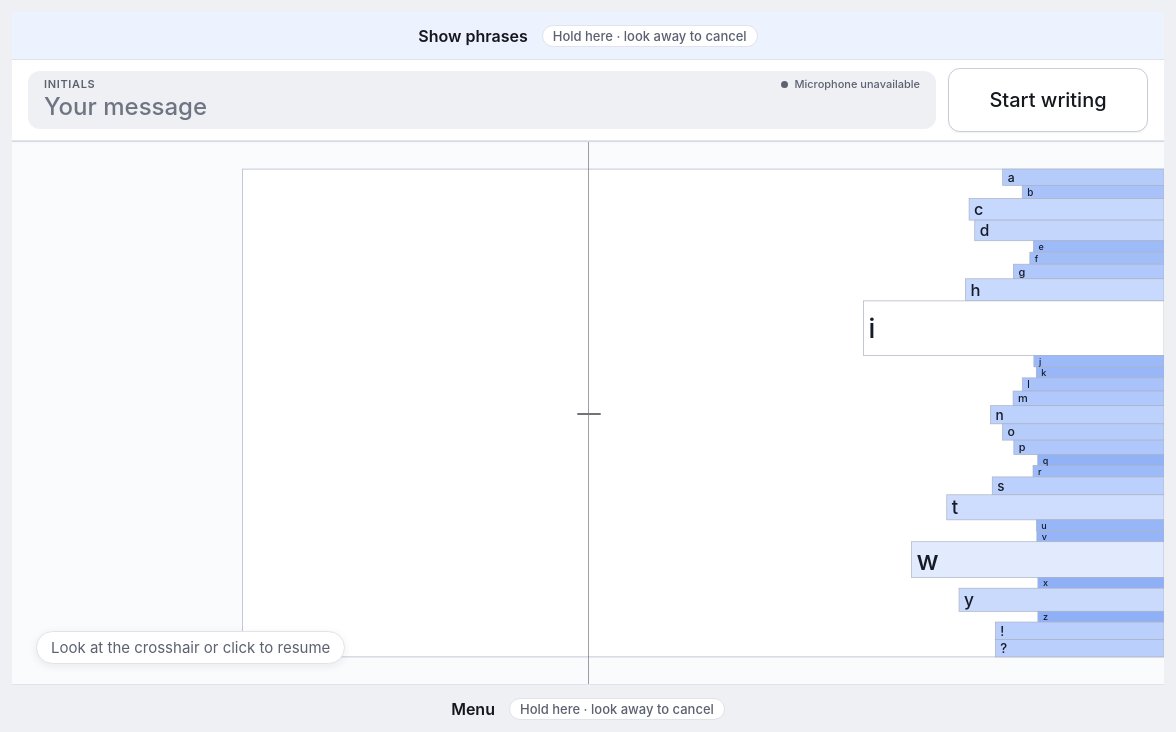
Test: top-edge review cue › keeps writing on hover, cancels a short glance, latches review until a fresh dwell, and resumes on return
Click the button "Start writing" at (1048, 100), box x1=948 y1=68 x2=1148 y2=132
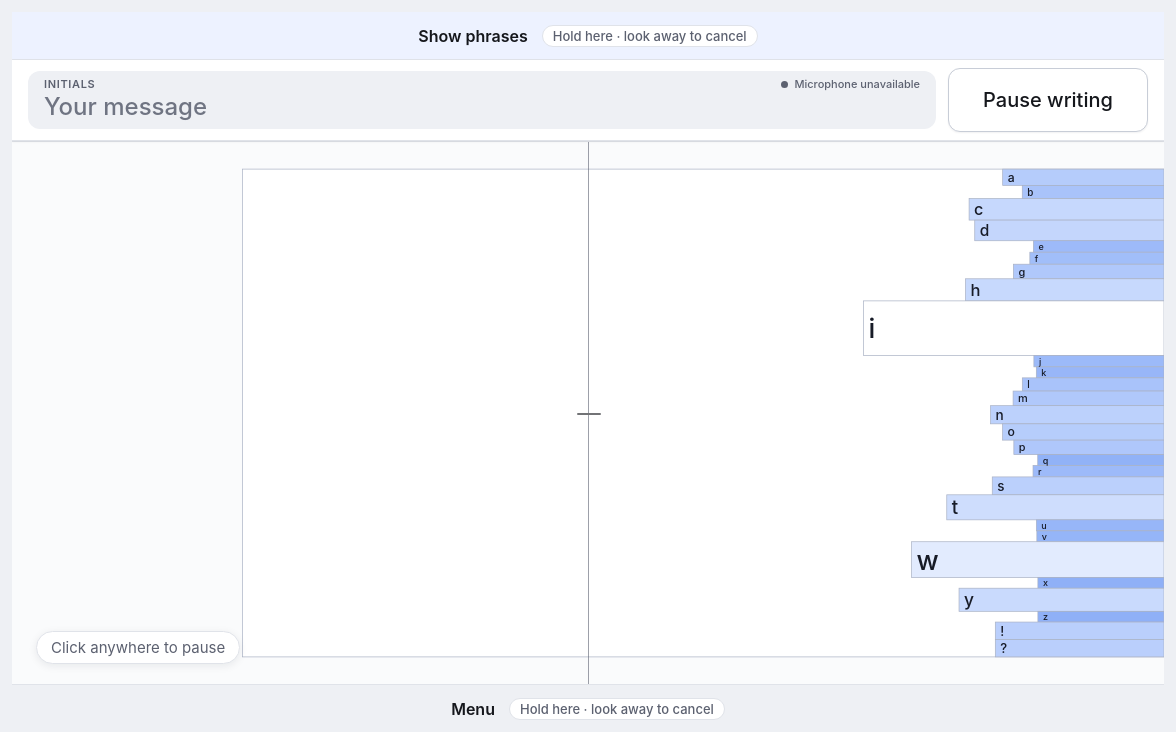
Hover over the button "Show phrases" at (588, 36), box x1=12 y1=12 x2=1164 y2=60
Wait 600 ms
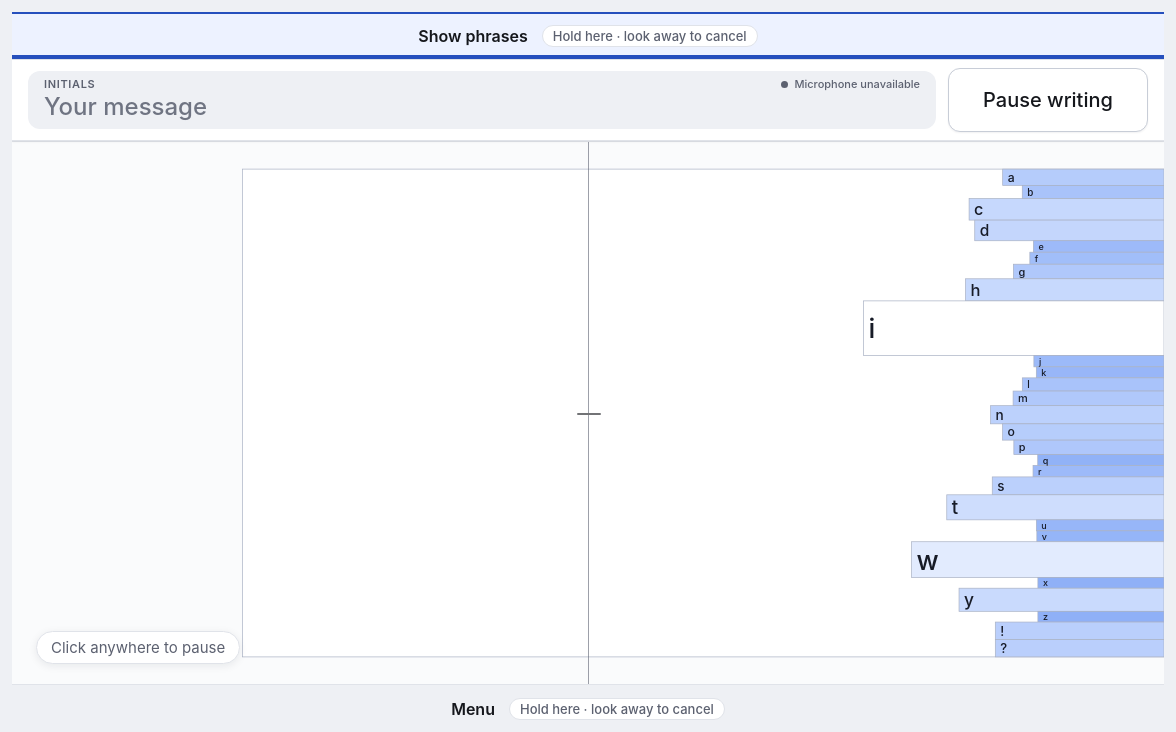
Check: the button with aria-label "Pause Dasher" is shown
Move the pointer off the button "Show phrases", box x1=12 y1=12 x2=1164 y2=60
Wait 1000 ms
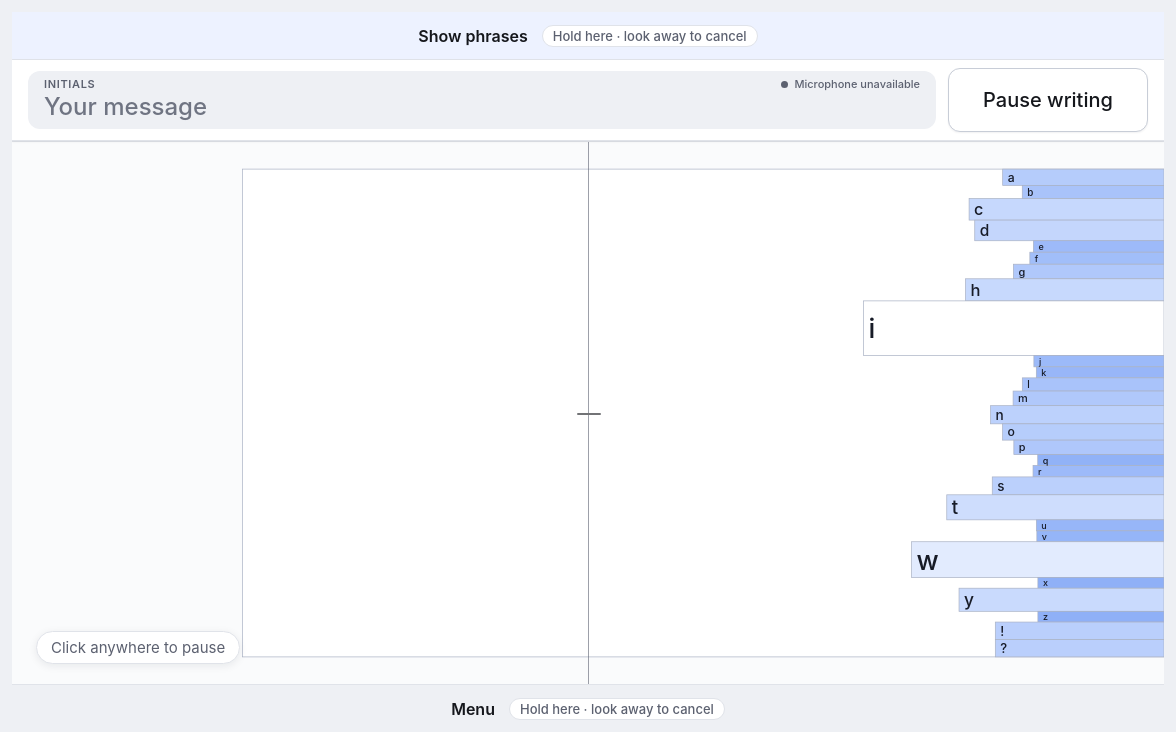
Hover over the button "Show phrases" at (588, 36), box x1=12 y1=12 x2=1164 y2=60
Wait 5000 ms
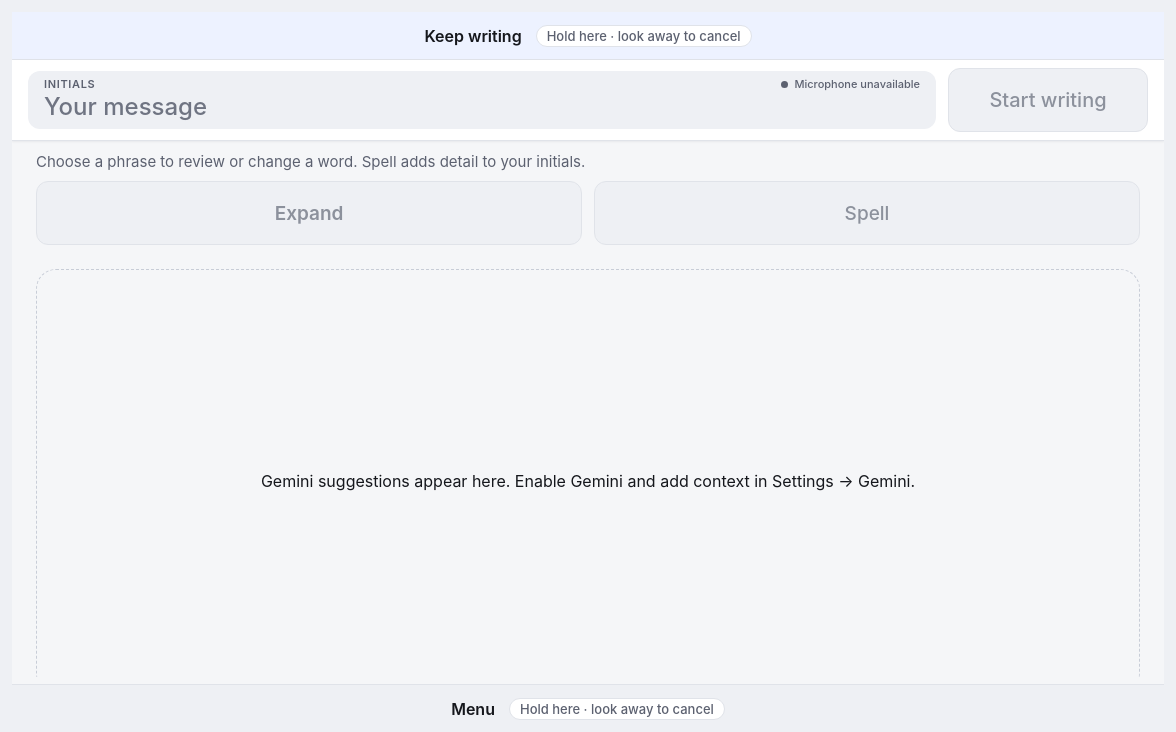
Check: the element named "SpeakFaster phrase composition" is shown
Move the pointer off the button "Keep writing", box x1=12 y1=12 x2=1164 y2=60
Check: the element named "SpeakFaster phrase composition" is shown
Hover over the button "Keep writing" at (588, 36), box x1=12 y1=12 x2=1164 y2=60
Wait 1000 ms
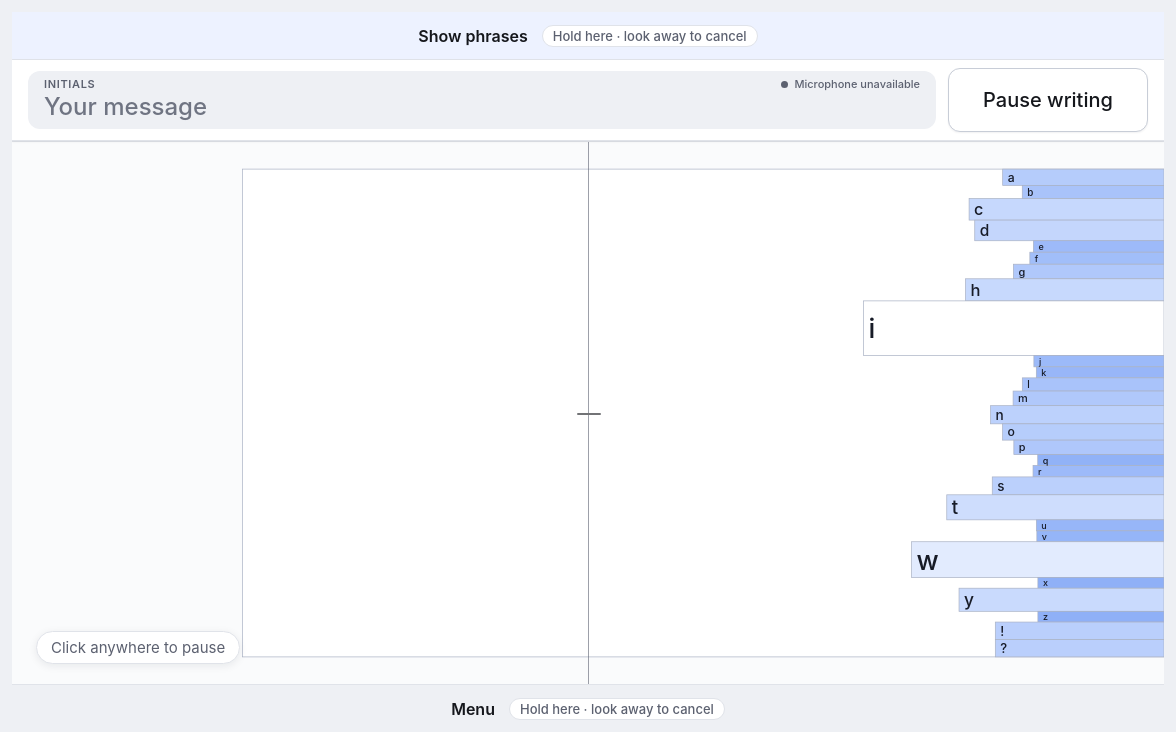
Check: the button with aria-label "Pause Dasher" is shown
